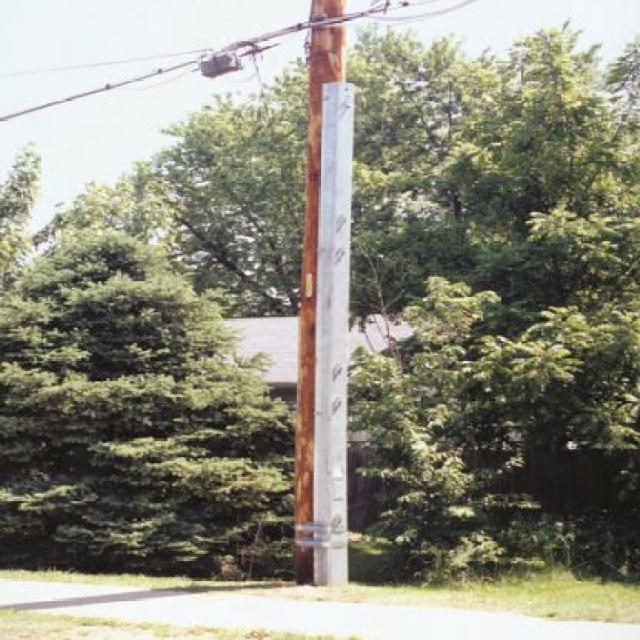pole: (271, 4, 384, 585)
